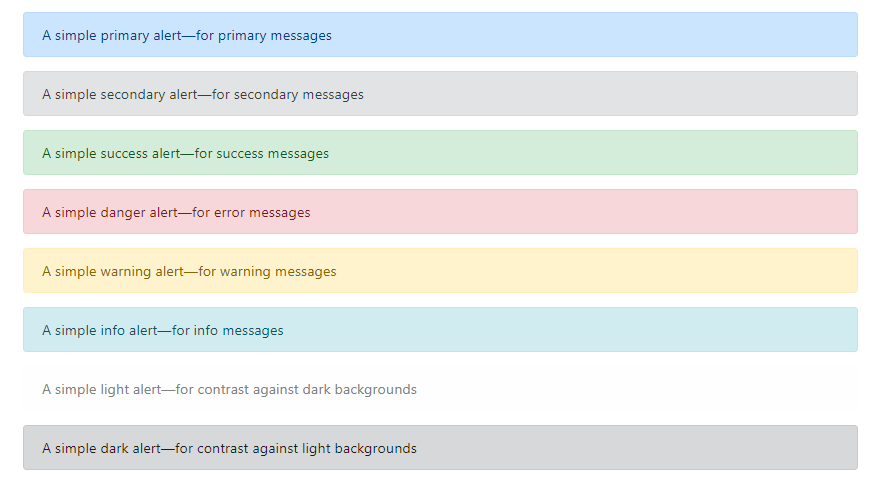error_message: (39, 204, 313, 222)
